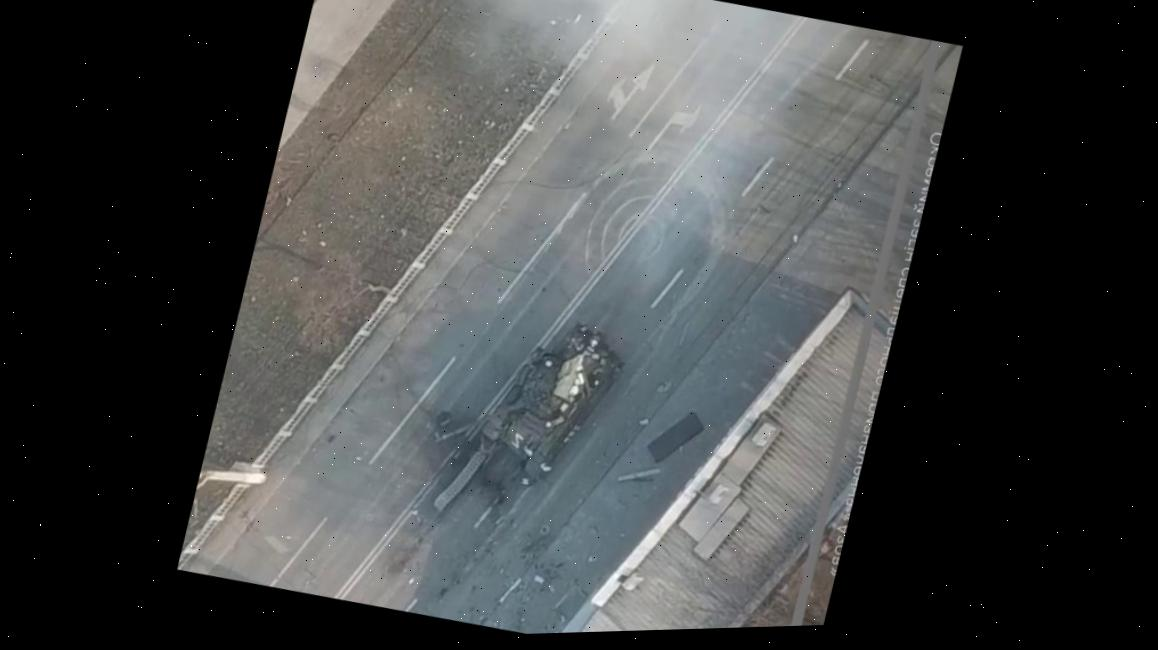tank: (424, 294, 635, 498)
